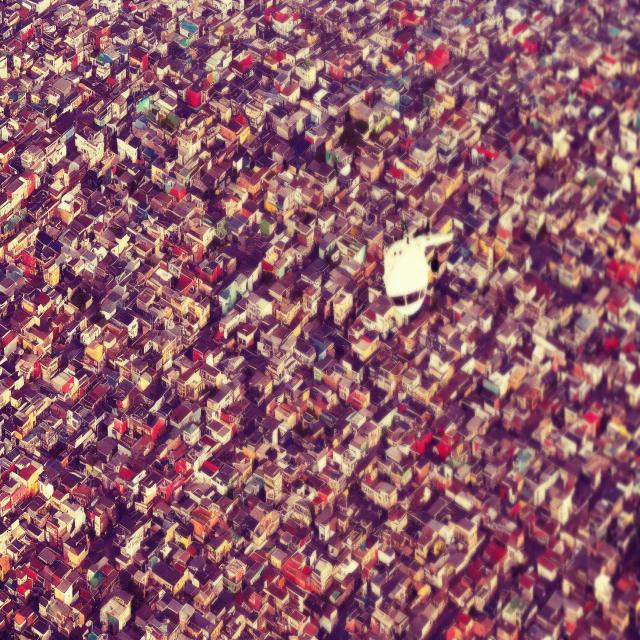airplane: (381, 208, 454, 320)
